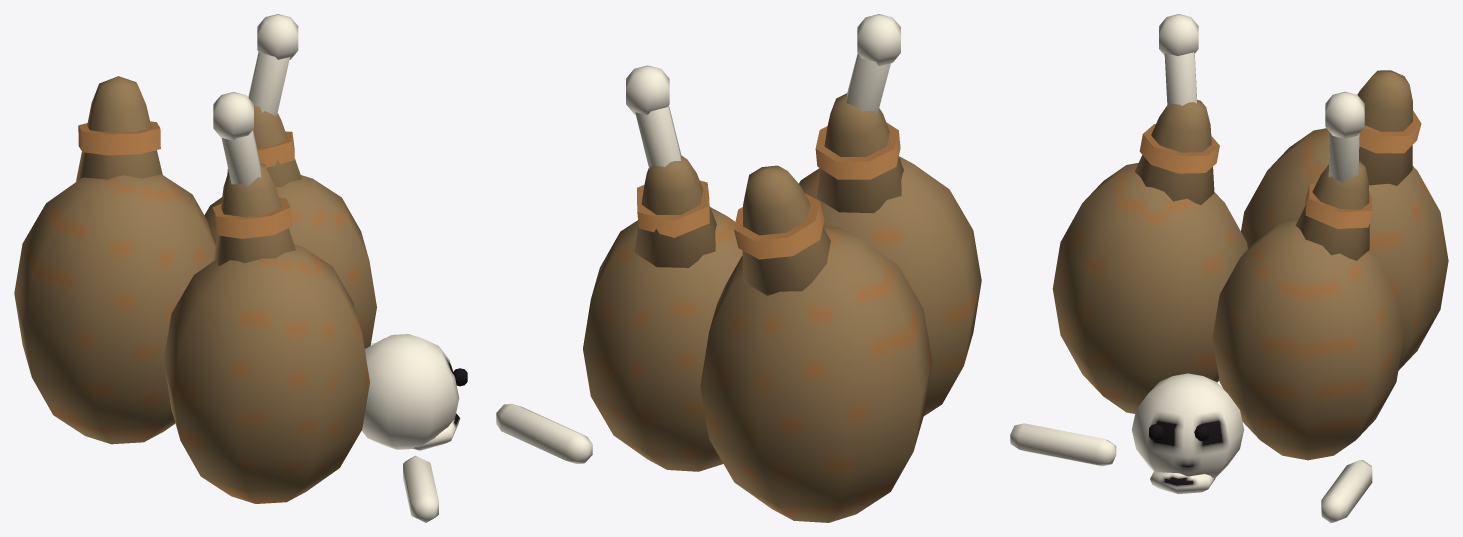
The model's file is prop_sacks0_f4fc.glb.
The picture shows the model from 3 angles, left to right: view 1: azimuth 30°, elevation 25°; view 2: azimuth 150°, elevation 25°; view 3: azimuth 270°, elevation 25°; orthographic projection. The views are drawn at different scales.
Visible parts, largest first — view 1: prop_sacks0_f4fc; view 2: prop_sacks0_f4fc; view 3: prop_sacks0_f4fc.
Part boxes in pixels (x1,y1,x2,y2): prop_sacks0_f4fc: (14, 14, 467, 522); prop_sacks0_f4fc: (496, 14, 981, 522); prop_sacks0_f4fc: (1010, 14, 1448, 522).
Bounding box in the file's own units: 1.15 × 1.09 × 1.13.
1 material, 1 textured.
